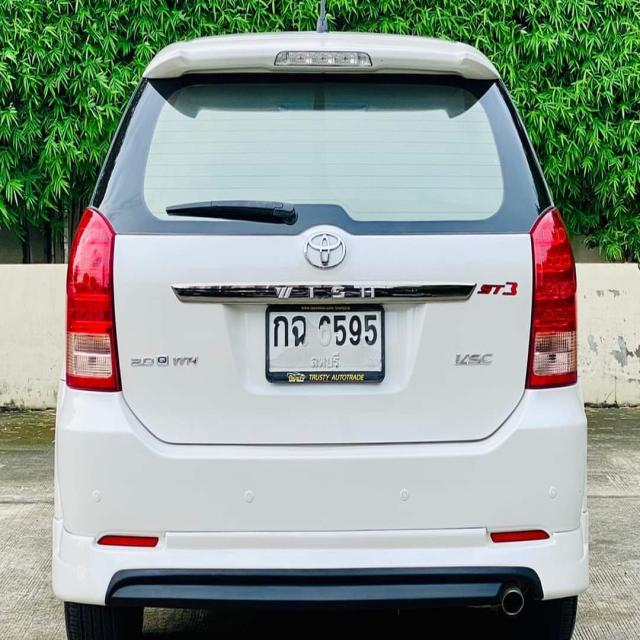license_plate: (262, 300, 387, 385)
